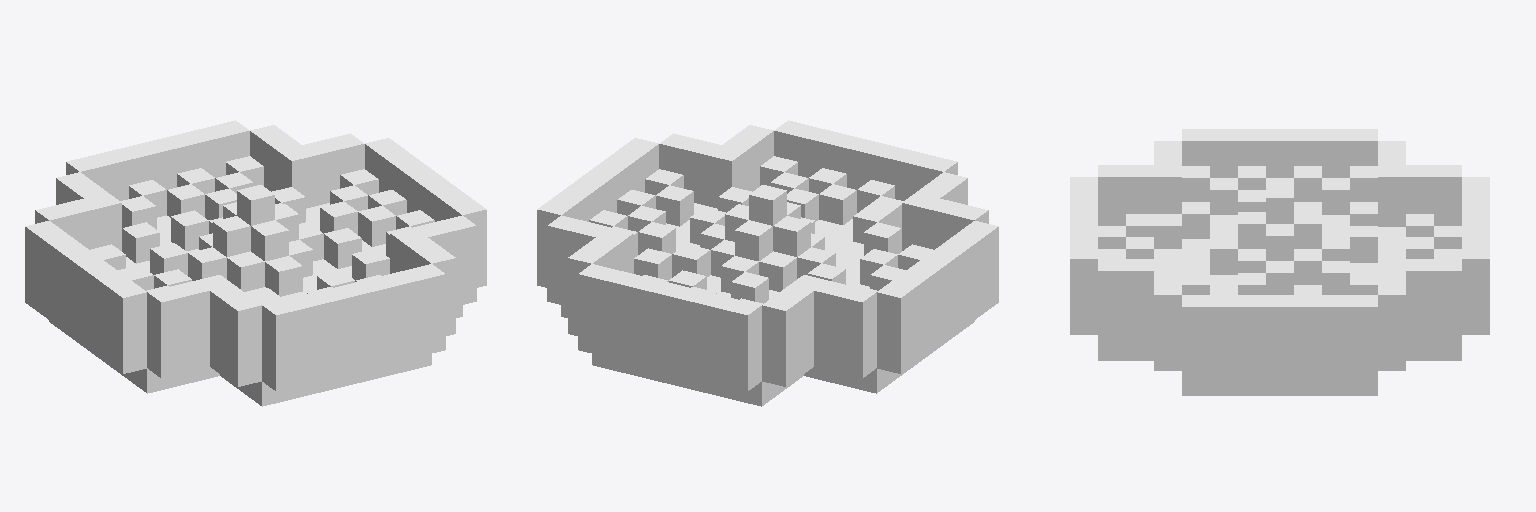
File: blueflower.obj
The picture shows the model from 3 angles: view 1: azimuth 30°, elevation 25°; view 2: azimuth 150°, elevation 25°; view 3: azimuth 270°, elevation 25°; orthographic projection.
Visible parts, largest first — view 1: ObjObject_ObjObject_palette; view 2: ObjObject_ObjObject_palette; view 3: ObjObject_ObjObject_palette.
Boxes of the visible parts, x1=… form: ObjObject_ObjObject_palette: x1=25, y1=120, x2=486, y2=406; ObjObject_ObjObject_palette: x1=537, y1=120, x2=998, y2=406; ObjObject_ObjObject_palette: x1=1070, y1=129, x2=1489, y2=395.
Bounding box in the file's own units: 1.5 × 0.5 × 1.5.